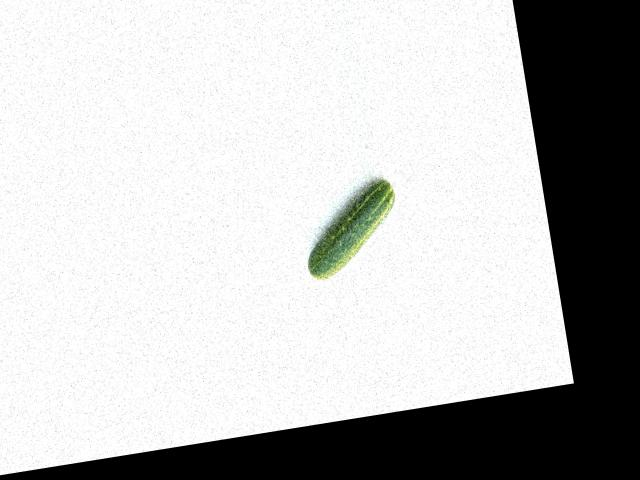cucumber: (297, 177, 407, 282)
